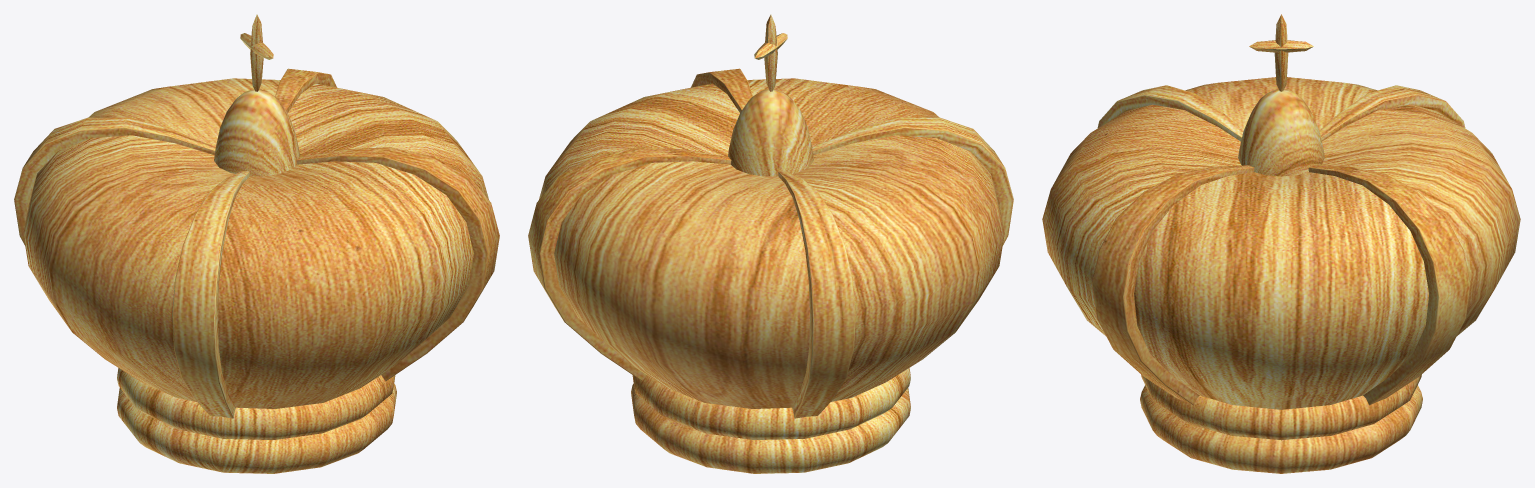
File: king.fbx
The picture shows the model from 3 angles, left to right: view 1: azimuth 30°, elevation 25°; view 2: azimuth 150°, elevation 25°; view 3: azimuth 270°, elevation 25°; orthographic projection.
Parts seen in each view (by area): view 1: Cube_002; view 2: Cube_002; view 3: Cube_002.
Part boxes in pixels (bbox=[...]): Cube_002: bbox=[14, 14, 499, 473]; Cube_002: bbox=[528, 14, 1013, 473]; Cube_002: bbox=[1042, 14, 1520, 473].
Size of the model in its own units: 2.44 by 2.28 by 2.44.
